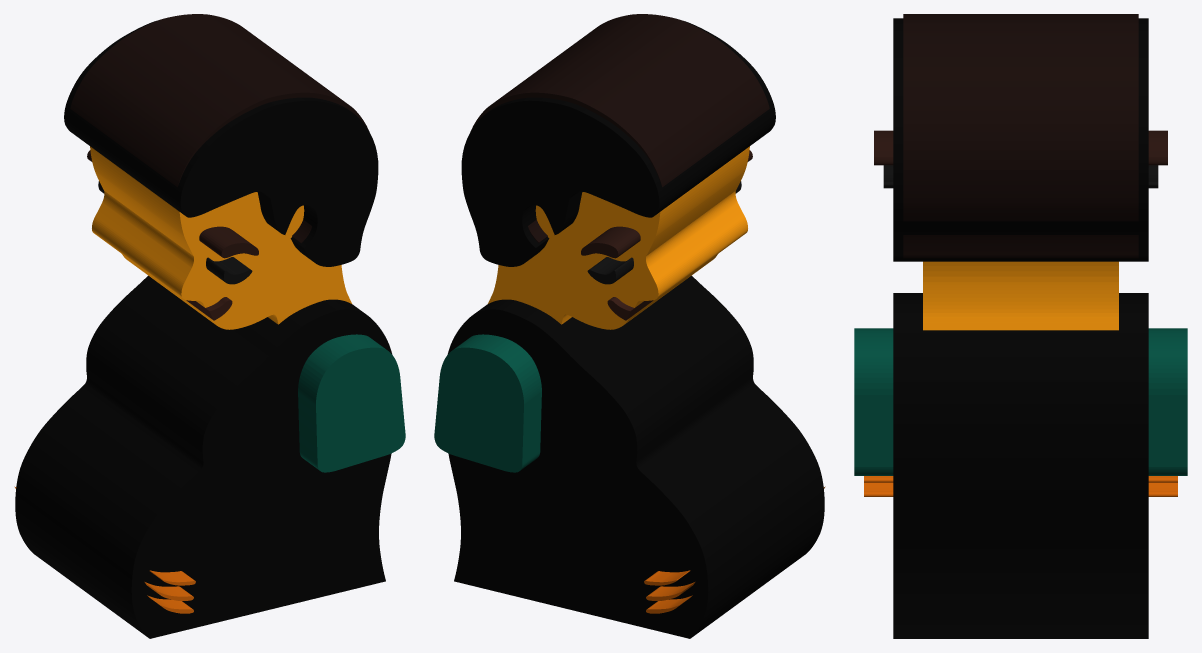
Rendered from U+1FAC3.obj.
3 renders of one model, left to right at view 1: azimuth 30°, elevation 25°; view 2: azimuth 150°, elevation 25°; view 3: azimuth 270°, elevation 25°, orthographic. The views are drawn at different scales.
Parts seen in each view (by area): view 1: U+1FAC3_layer03_obj01, U+1FAC3_layer03_obj00, U+1FAC3_layer02_obj00, U+1FAC3_layer00_obj00, U+1FAC3_layer07_obj00, U+1FAC3_layer03_obj02, U+1FAC3_layer05_obj00, U+1FAC3_layer04_obj00; view 2: U+1FAC3_layer03_obj01, U+1FAC3_layer03_obj00, U+1FAC3_layer02_obj00, U+1FAC3_layer00_obj00, U+1FAC3_layer07_obj00, U+1FAC3_layer03_obj02, U+1FAC3_layer05_obj00, U+1FAC3_layer04_obj00; view 3: U+1FAC3_layer03_obj01, U+1FAC3_layer02_obj00, U+1FAC3_layer00_obj00, U+1FAC3_layer07_obj00, U+1FAC3_layer03_obj00, U+1FAC3_layer05_obj00, U+1FAC3_layer06_obj02, U+1FAC3_layer04_obj00.
Part boxes in pixels (x1,y1,x2,y2): U+1FAC3_layer03_obj01: (15,275,392,638); U+1FAC3_layer03_obj00: (64,20,378,266); U+1FAC3_layer02_obj00: (70,14,369,243); U+1FAC3_layer00_obj00: (90,146,351,329); U+1FAC3_layer07_obj00: (298,334,405,472); U+1FAC3_layer03_obj02: (141,459,375,610); U+1FAC3_layer05_obj00: (87,150,258,258); U+1FAC3_layer04_obj00: (98,181,252,284); U+1FAC3_layer03_obj01: (447,275,824,638); U+1FAC3_layer03_obj00: (461,20,775,266); U+1FAC3_layer02_obj00: (470,14,769,243); U+1FAC3_layer00_obj00: (488,146,749,329); U+1FAC3_layer07_obj00: (434,334,541,472); U+1FAC3_layer03_obj02: (464,459,698,610); U+1FAC3_layer05_obj00: (581,150,752,258); U+1FAC3_layer04_obj00: (587,181,741,284); U+1FAC3_layer03_obj01: (893,293,1148,638); U+1FAC3_layer02_obj00: (903,14,1138,258); U+1FAC3_layer00_obj00: (923,261,1118,330); U+1FAC3_layer07_obj00: (854,328,1187,475); U+1FAC3_layer03_obj00: (893,18,1148,261); U+1FAC3_layer05_obj00: (874,130,1167,165); U+1FAC3_layer06_obj02: (864,482,1177,496); U+1FAC3_layer04_obj00: (883,165,1158,188).
Bounding box in the file's own units: 0.1708 × 0.3125 × 0.17.
